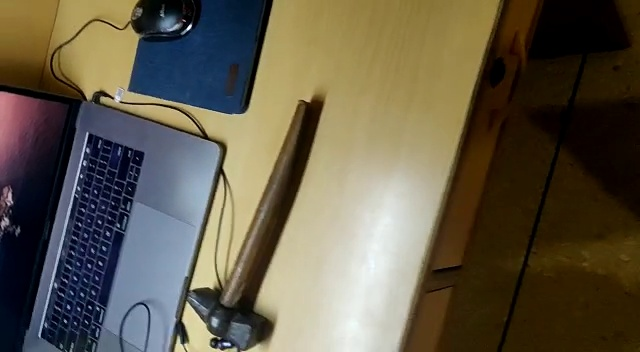hammer: (184, 100, 315, 350)
